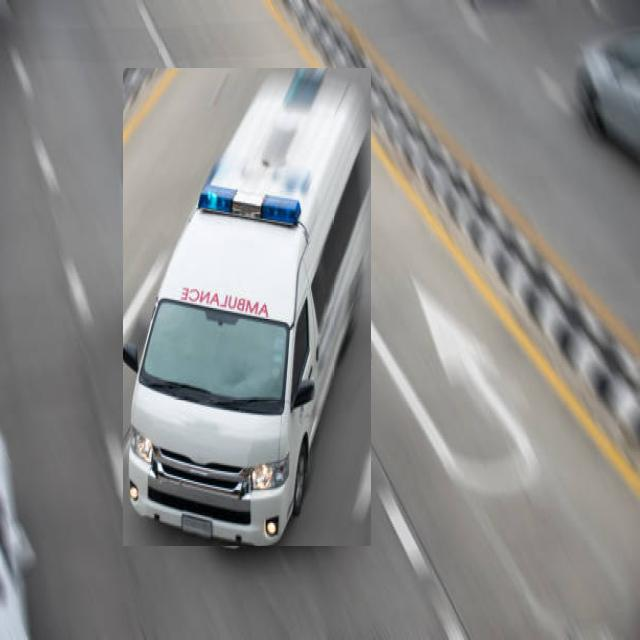emergency: (123, 69, 370, 546)
